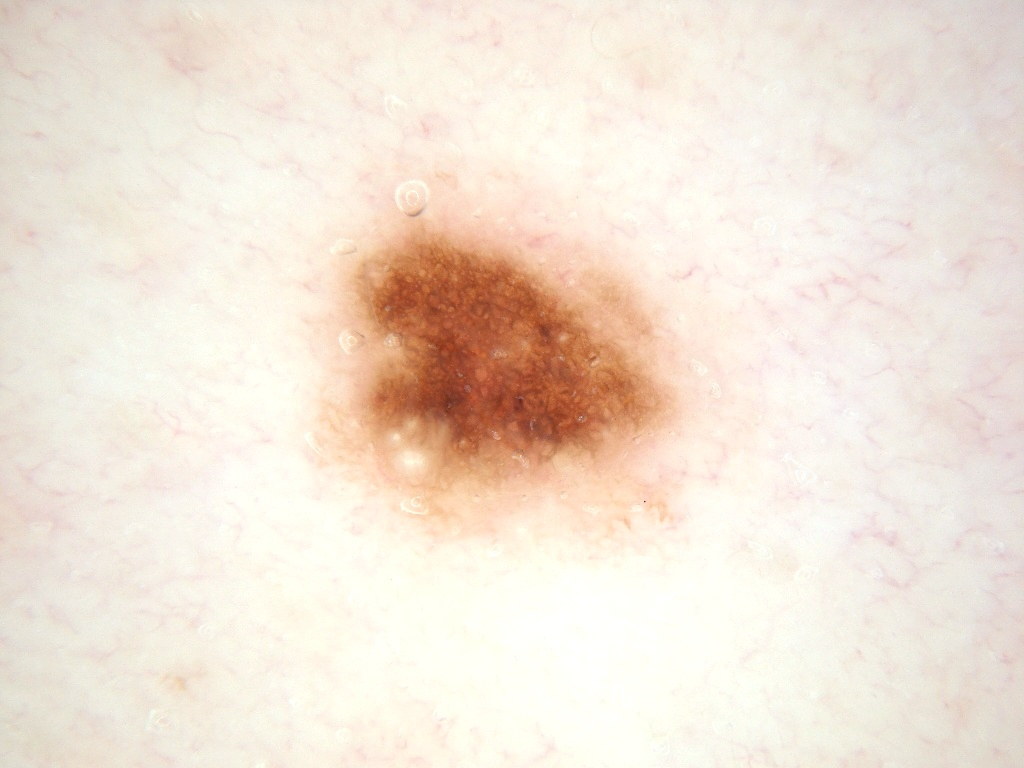Detected Lesion: (340, 204, 679, 505)
